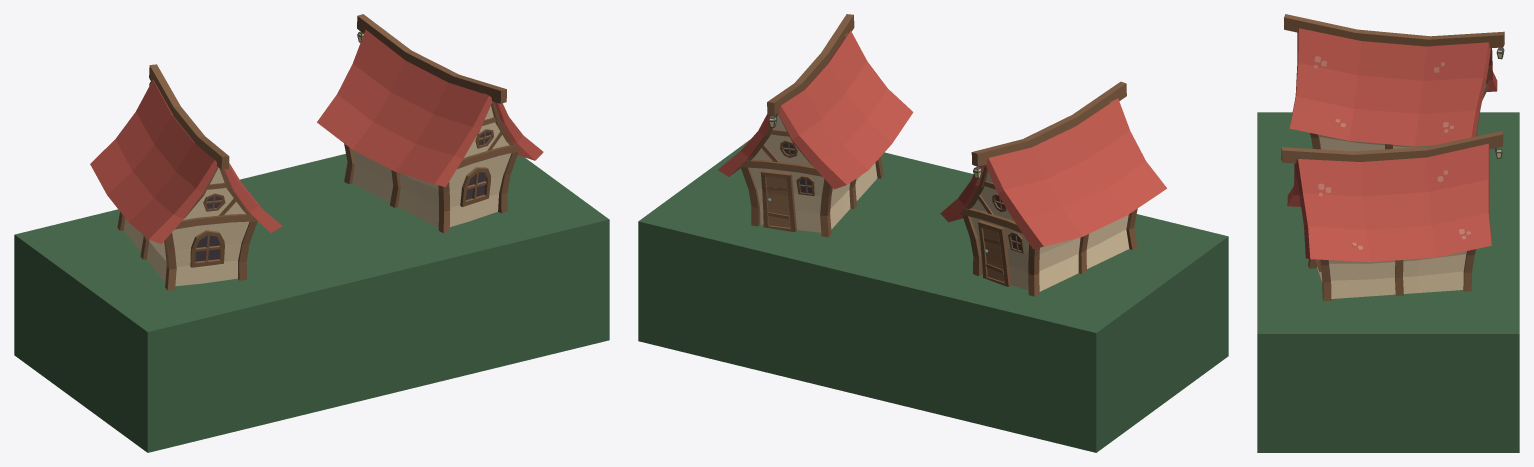
The model's file is SmallHouses.glb.
The picture shows the model from 3 angles, left to right: view 1: azimuth 30°, elevation 25°; view 2: azimuth 150°, elevation 25°; view 3: azimuth 270°, elevation 25°; orthographic projection.
Parts seen in each view (by area): view 1: tile, RightRoof.001, RightRoof, House.017, House, Cube.077, Cube, Cube.070, Cube.007, Cube.003, House.007, House.011; view 2: tile, RightRoof, RightRoof.001, House, House.017, Cube, Cube.077, House.013, Cube.007, House.005, door.001, Cube.070 (+2 smaller); view 3: tile, RightRoof.001, RightRoof, House.017, Cube.077, Cube, House, Cube.069, Cube.067.
Part boxes in pixels (x1,y1,x2,y2): tile: (14, 154, 609, 452); RightRoof.001: (317, 29, 543, 186); RightRoof: (90, 80, 282, 244); House.017: (352, 106, 511, 227); House: (124, 167, 249, 286); Cube.077: (357, 14, 506, 103); Cube: (149, 64, 229, 169); Cube.070: (344, 143, 450, 233); Cube.007: (117, 212, 176, 290); Cube.003: (174, 213, 257, 229); House.007: (190, 230, 224, 267); House.011: (460, 167, 490, 206); tile: (638, 139, 1228, 452); RightRoof: (940, 98, 1166, 249); RightRoof.001: (718, 30, 913, 189); House: (970, 171, 1129, 291); House.017: (749, 114, 877, 232); Cube: (971, 81, 1126, 166); Cube.077: (767, 14, 854, 115); House.013: (760, 170, 796, 231); Cube.007: (1028, 208, 1137, 296); House.005: (978, 220, 1011, 286); door.001: (766, 177, 790, 227); Cube.070: (820, 157, 883, 237); tile: (1257, 112, 1519, 452); RightRoof.001: (1287, 143, 1491, 262); RightRoof: (1289, 28, 1497, 146); House.017: (1317, 251, 1466, 298); Cube.077: (1281, 131, 1503, 163); Cube: (1284, 14, 1504, 48); House: (1319, 135, 1433, 151); Cube.069: (1320, 249, 1475, 301); Cube.067: (1395, 260, 1403, 295).
Size of the model in its own units: 4 by 2.19 by 2.
